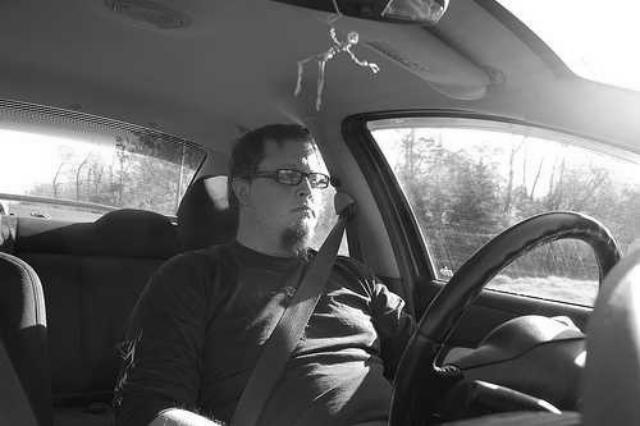Seatbelt: (224, 191, 355, 426)
